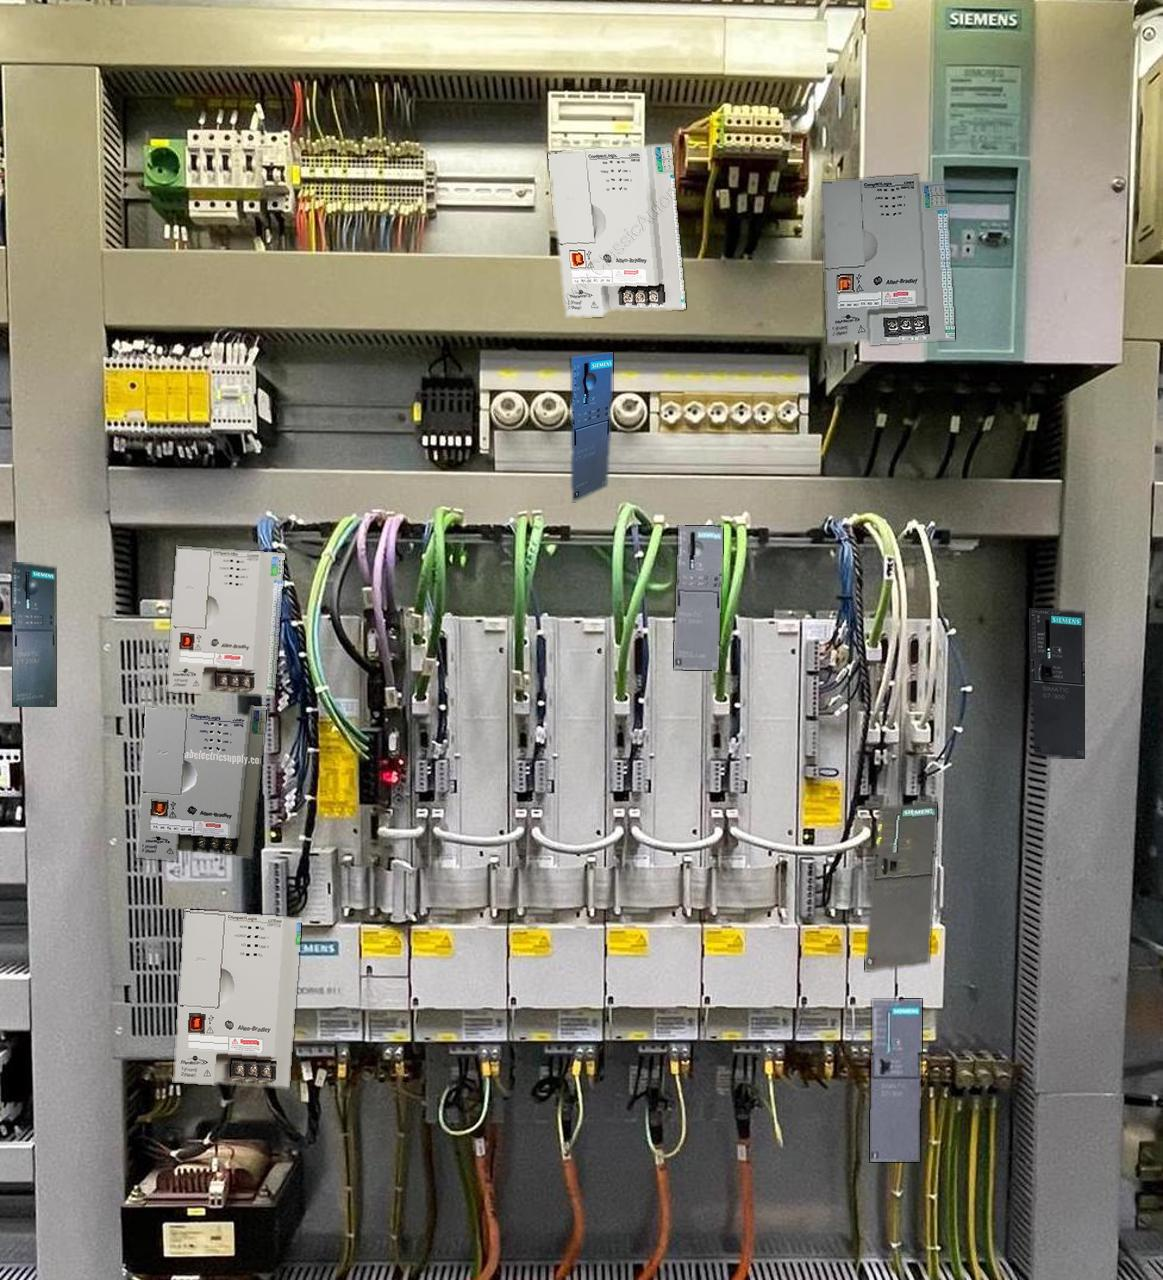AllenBradley: (547, 144, 685, 316), (173, 909, 301, 1087), (822, 175, 954, 345), (136, 705, 266, 860), (167, 546, 284, 696)
Siemens: (865, 803, 936, 970), (870, 999, 921, 1161), (1029, 608, 1084, 758)
